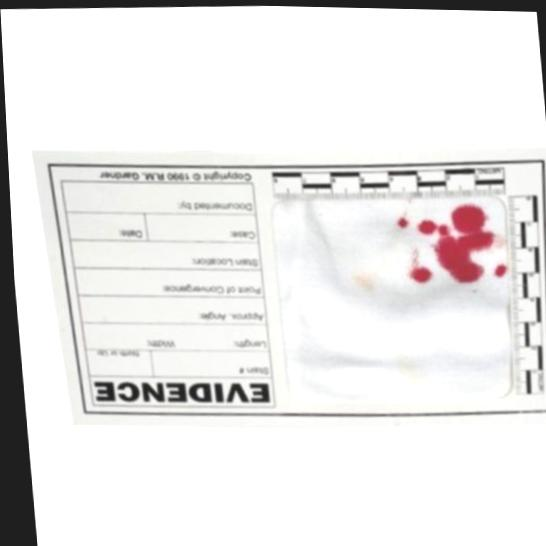Fire: (416, 202, 493, 281), (408, 265, 429, 281), (492, 263, 504, 275), (396, 217, 406, 226)
